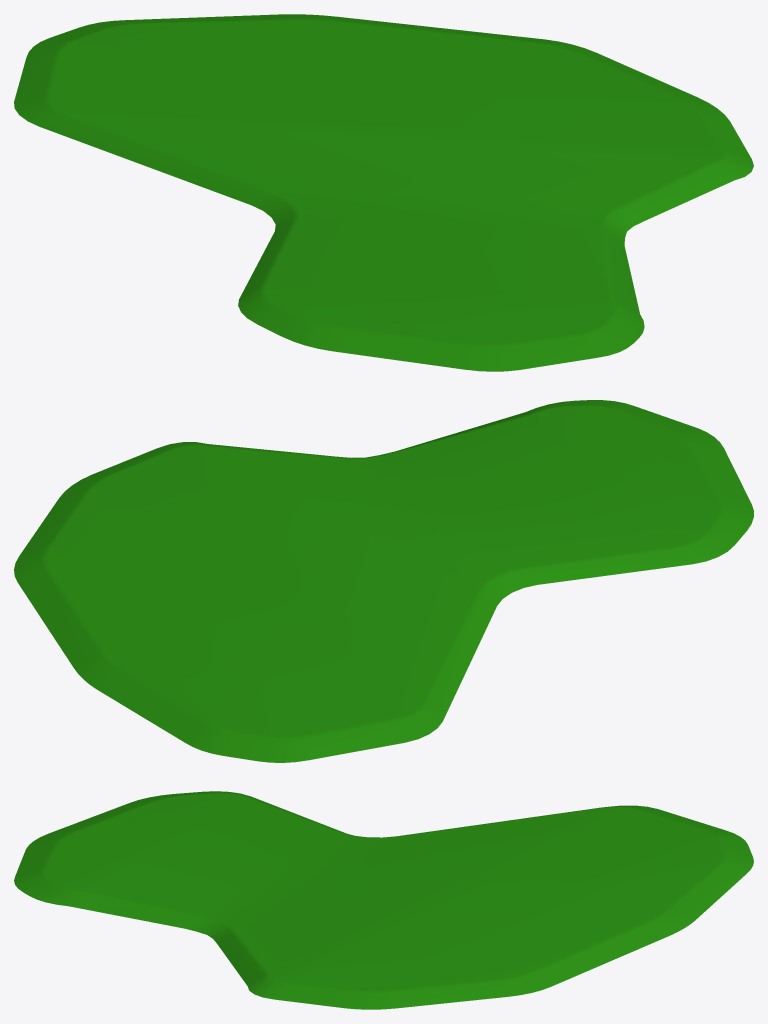
Rendered from GroundPadding04_1.fbx.
3 views of the same model, one above another, from view 1: azimuth 30°, elevation 25°; view 2: azimuth 150°, elevation 25°; view 3: azimuth 270°, elevation 25° (orthographic). The views are drawn at different scales.
Parts seen in each view (by area): view 1: LOD0; view 2: LOD0; view 3: LOD0.
Boxes of the visible parts, x1,y1,x2,y2 form: LOD0: (14,14,753,371); LOD0: (14,400,753,762); LOD0: (14,791,753,1009).
Size of what is drawn, in the model's own units: 1238 by 1772 by 20.49.
1 material, 1 textured.
